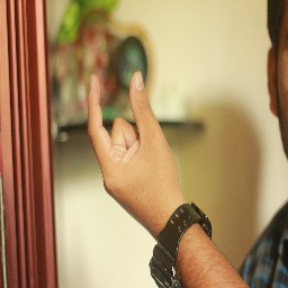U: (80, 65, 176, 201)
